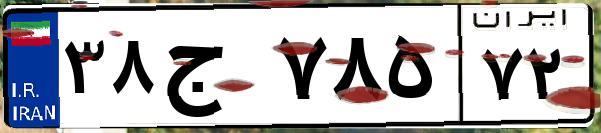2: (525, 38, 570, 115)
3: (57, 26, 110, 100)
5: (385, 28, 445, 110)
7: (270, 28, 330, 110), (475, 38, 525, 113)
8: (330, 28, 385, 110), (110, 28, 158, 98)
ج: (158, 20, 270, 120)
